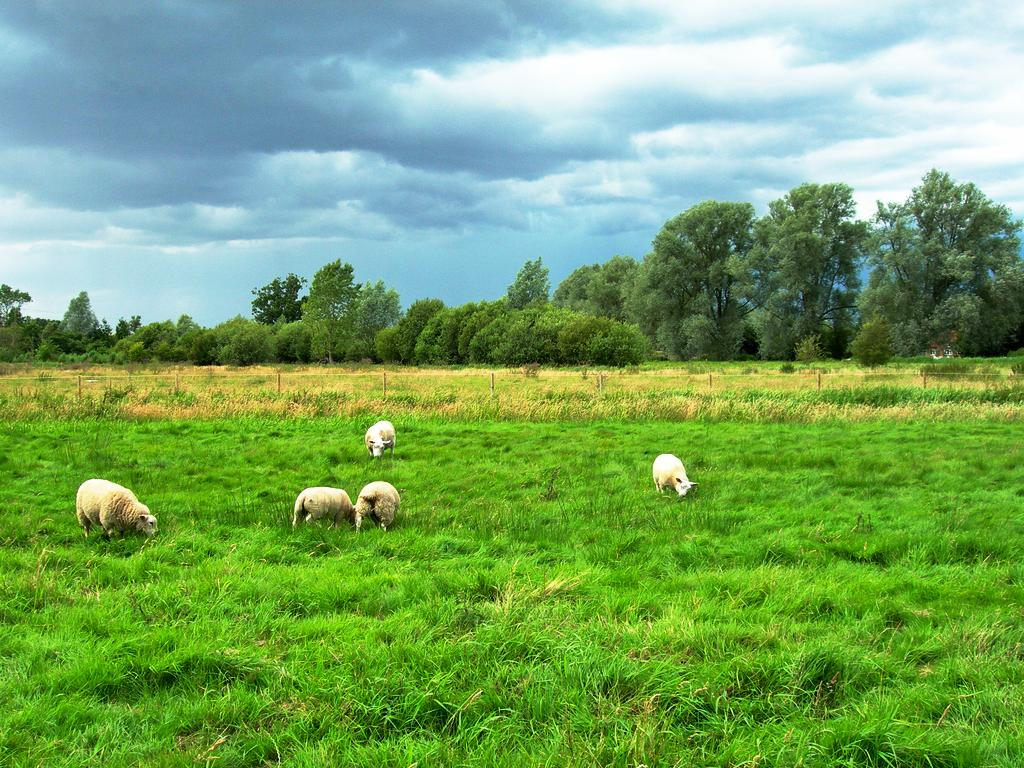Sheep: (74, 479, 154, 549), (293, 484, 355, 530), (355, 483, 403, 537), (654, 452, 694, 498), (366, 420, 396, 462)
